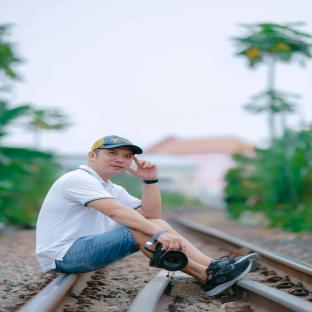Human: (36, 136, 261, 295)
